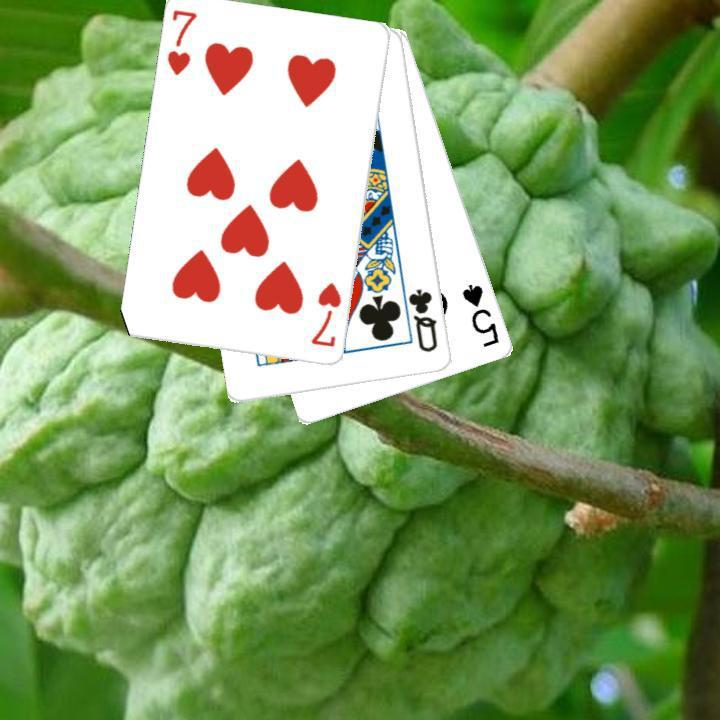5: (458, 280, 502, 350)
7: (163, 5, 200, 78), (307, 278, 344, 350)
Q: (405, 284, 440, 355)
